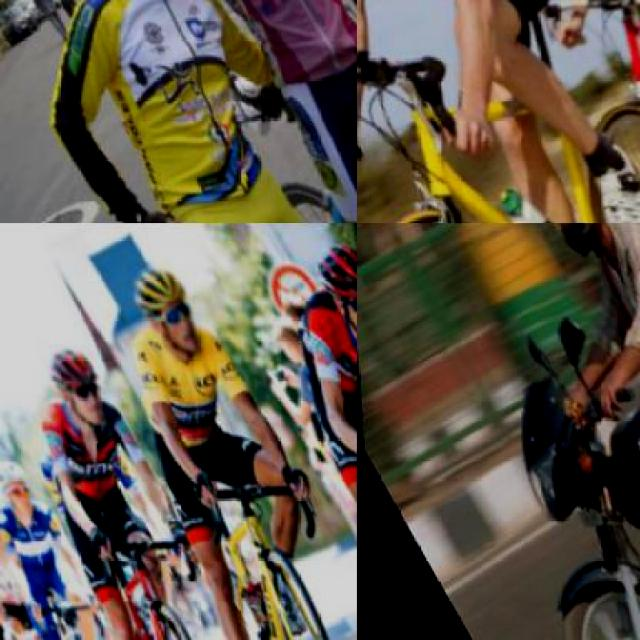With Helmet: (30, 332, 125, 450), (120, 256, 218, 370), (297, 228, 355, 358), (506, 223, 631, 271), (0, 448, 43, 526), (0, 501, 12, 572)
